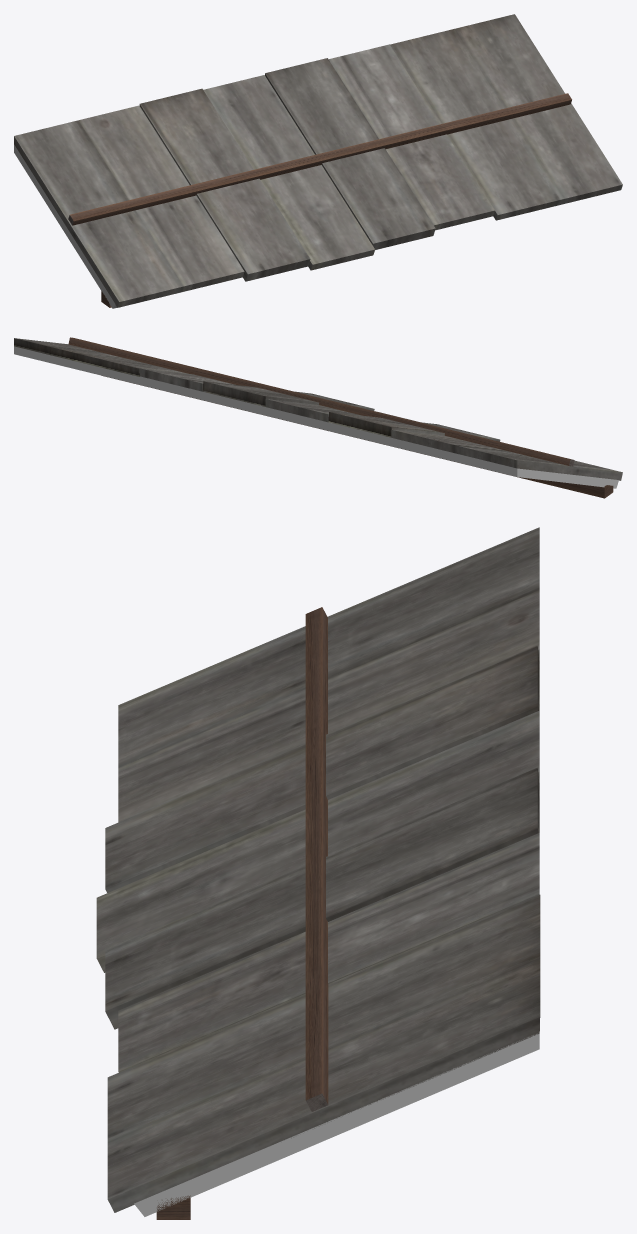
File: itabuki_2x1t_a1middle.fbx
3 renders of one model, top to bottom at view 1: azimuth 30°, elevation 25°; view 2: azimuth 150°, elevation 25°; view 3: azimuth 270°, elevation 25°, orthographic. The views are drawn at different scales.
Parts seen in each view (by area): view 1: itabuki_2x1t_a1middle; view 2: itabuki_2x1t_a1middle; view 3: itabuki_2x1t_a1middle.
Part boxes in pixels (x1,y1,x2,y2): itabuki_2x1t_a1middle: (14, 14, 622, 308); itabuki_2x1t_a1middle: (14, 337, 622, 498); itabuki_2x1t_a1middle: (96, 527, 540, 1219).
Size of the model in its own units: 440 by 87.23 by 169.
